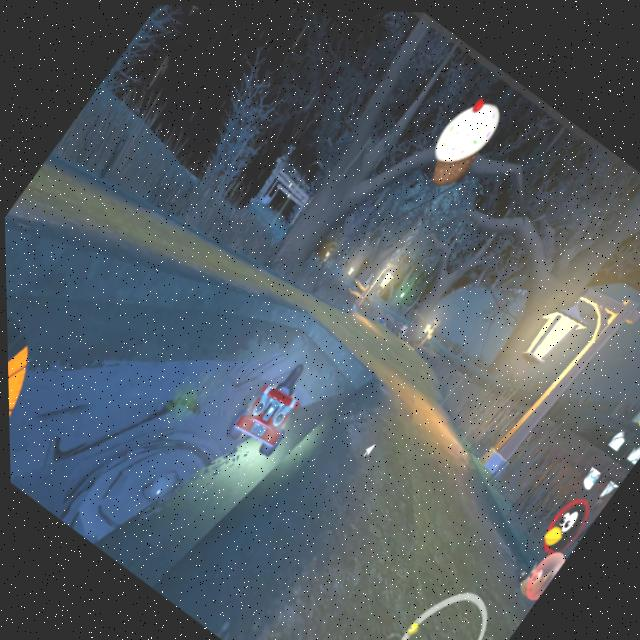player_kart: (205, 348, 321, 475)
track: (3, 176, 274, 455), (254, 407, 491, 640), (309, 296, 443, 409)
